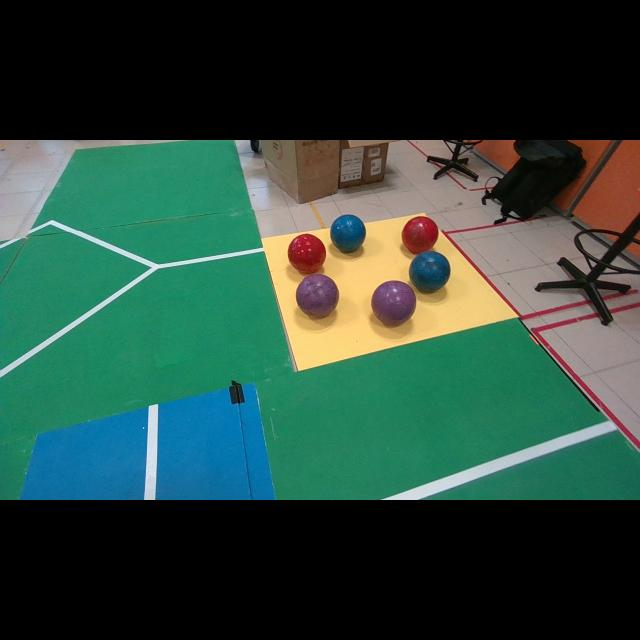B: (409, 250, 450, 292), (330, 215, 366, 252)
P: (371, 280, 416, 326), (296, 274, 339, 318)
R: (288, 234, 326, 273), (401, 216, 439, 254)
